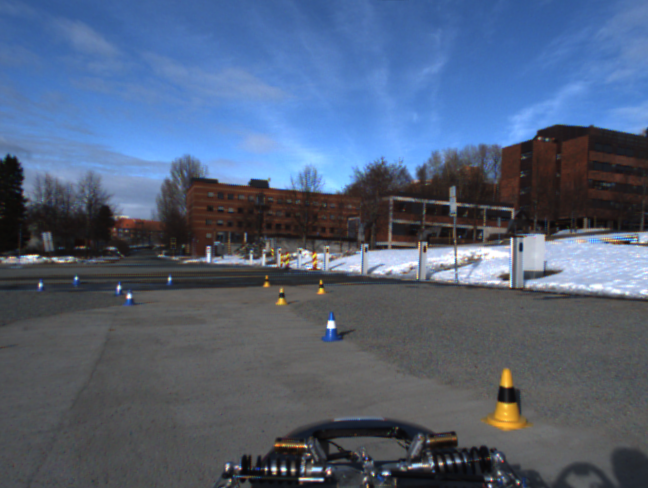cone-small-blue: (321, 311, 342, 341), (123, 290, 137, 306), (115, 281, 124, 297), (36, 279, 46, 293), (165, 273, 175, 286), (72, 274, 81, 286)
cone-small-yellow: (480, 366, 531, 431), (274, 287, 289, 305), (316, 279, 328, 295), (262, 275, 271, 288)
